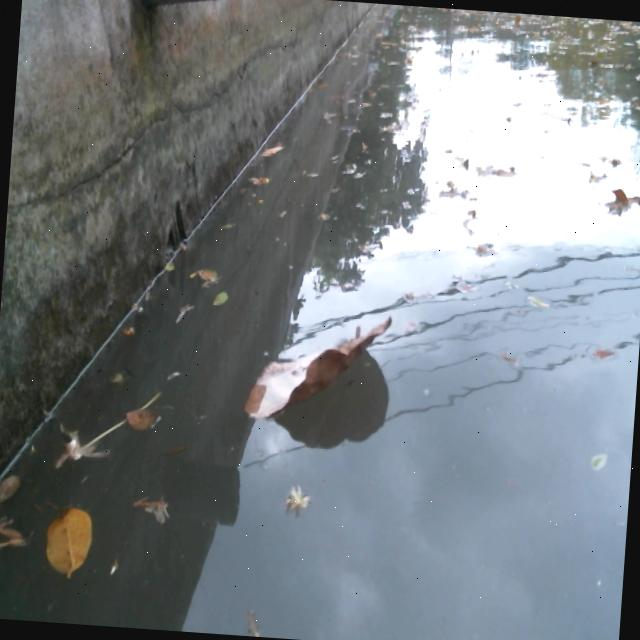Big-leaf: (240, 299, 396, 433)
Small-leaf: (39, 496, 98, 585), (600, 184, 640, 220), (121, 404, 160, 435), (521, 289, 555, 315), (0, 469, 23, 504), (256, 137, 288, 161), (480, 165, 522, 182), (585, 448, 606, 476), (246, 167, 271, 190), (590, 341, 616, 362), (211, 284, 231, 309)
